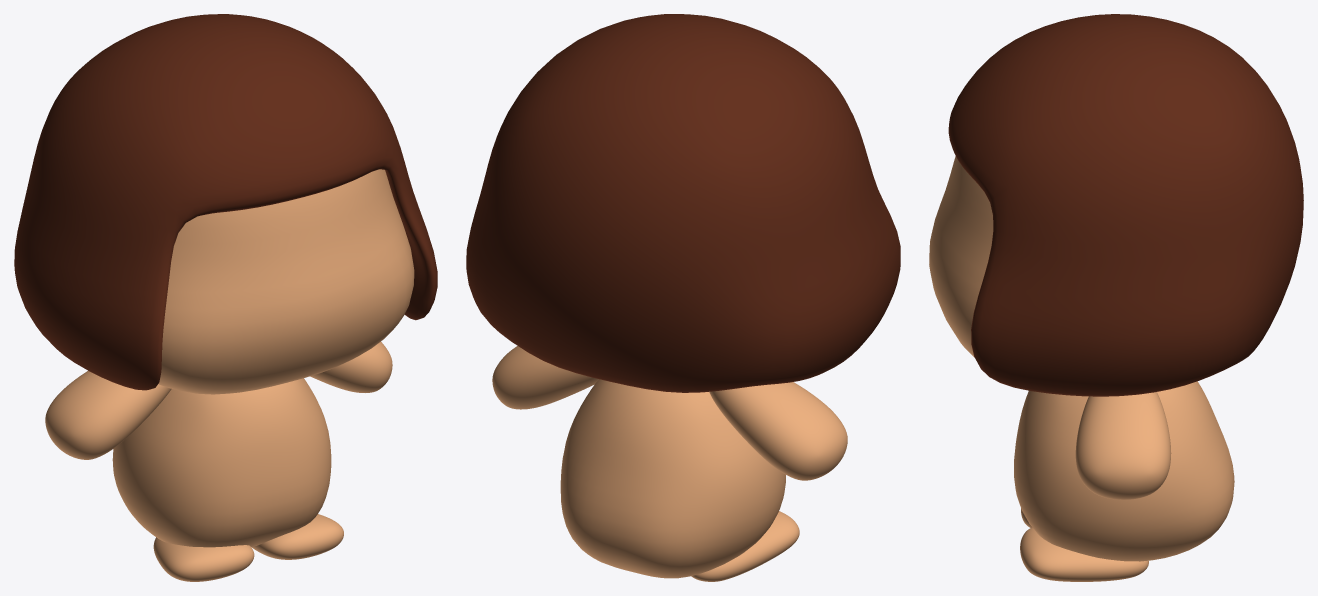
Rendered from cutegirl.glb.
3 views of the same model, side by side, from view 1: azimuth 30°, elevation 25°; view 2: azimuth 150°, elevation 25°; view 3: azimuth 270°, elevation 25° (orthographic). The views are drawn at different scales.
Parts seen in each view (by area): view 1: Cube; view 2: Cube; view 3: Cube.
Part boxes in pixels (left/top/right/bottom): Cube: left=14, top=14, right=437, bottom=581; Cube: left=466, top=14, right=900, bottom=581; Cube: left=929, top=14, right=1303, bottom=581.
Bounding box in the file's own units: 1.23 × 1.71 × 1.12.
